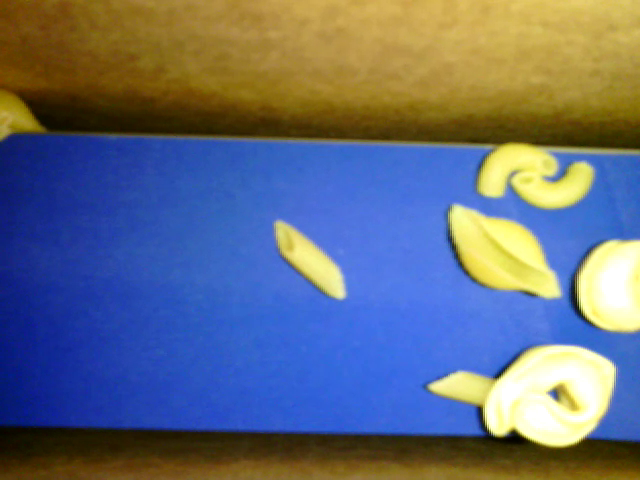elbow: (475, 139, 561, 204), (509, 161, 595, 210)
penne: (273, 219, 350, 301), (422, 366, 499, 407)
shell: (443, 203, 562, 301), (1, 90, 52, 130)
tortellini: (481, 341, 615, 449), (573, 234, 639, 333)
